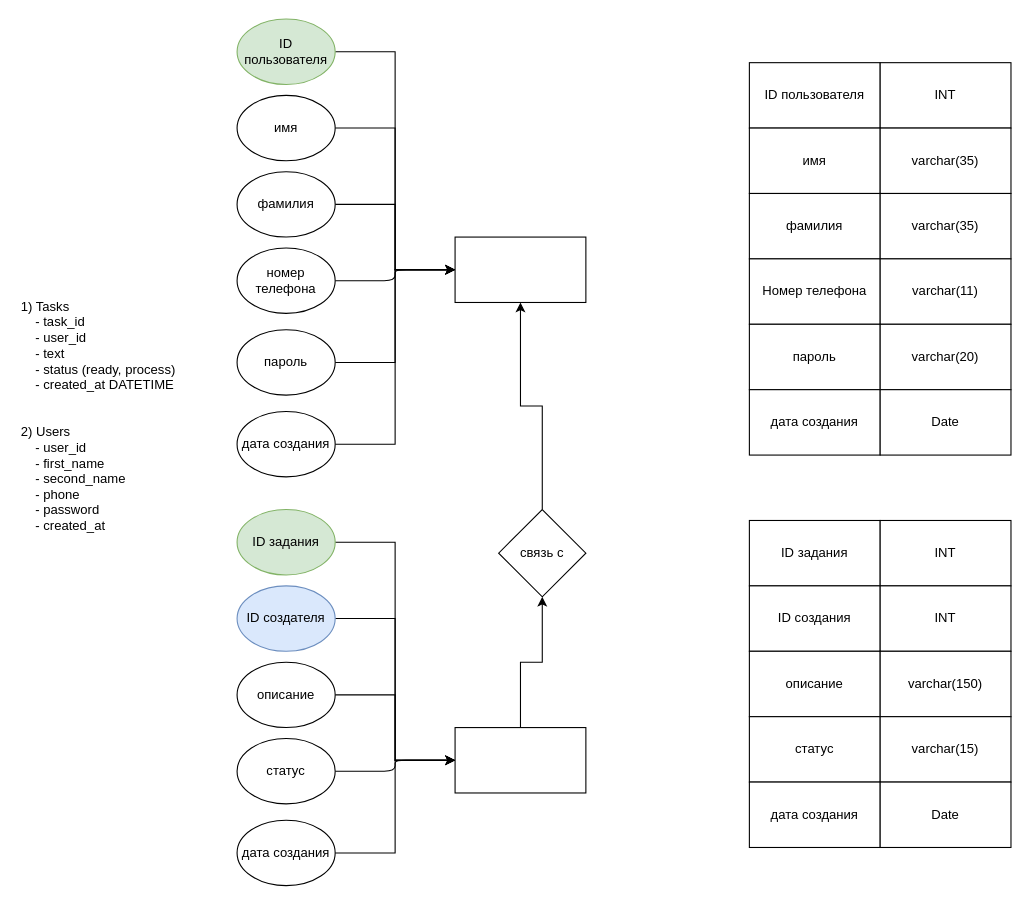
Image size: 1030x905. Some labels were removed from this diagram. Here are the shapes that lost their labels. From the top down, the centre of each, then its label:
pixel 520 269: пользователь
pixel 520 759: Задание
